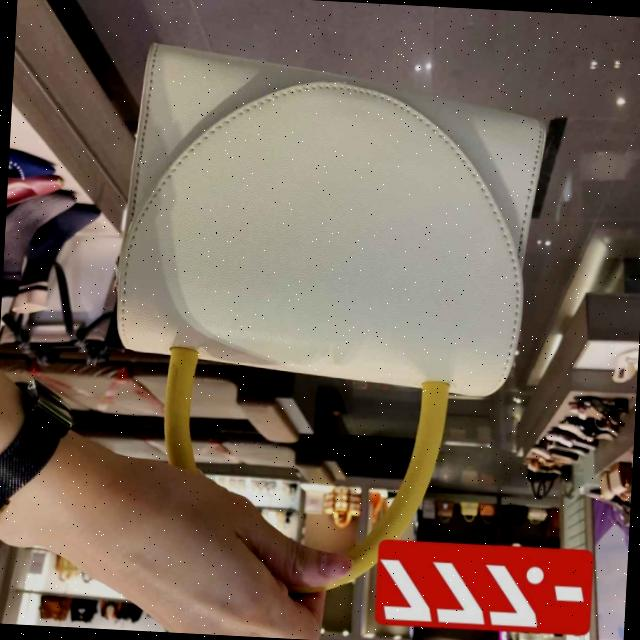Handbag: (109, 40, 556, 450)
